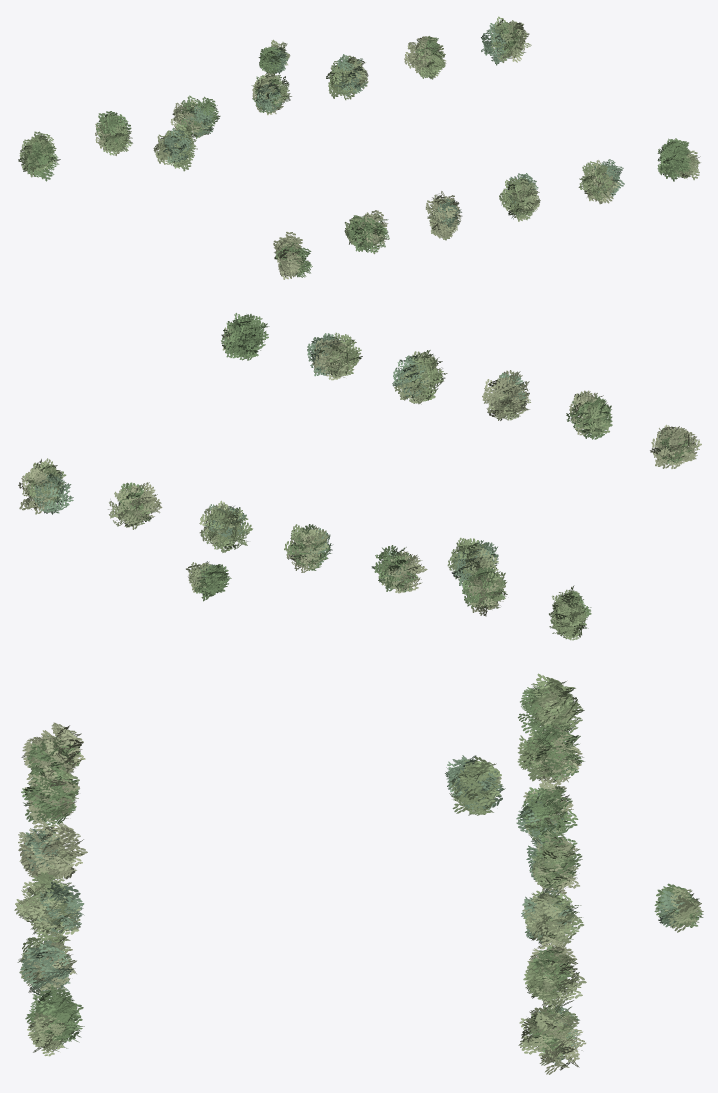
File: campus-tree-1_-1-middle.glb
3 renders of one model, top to bottom at view 1: azimuth 30°, elevation 25°; view 2: azimuth 150°, elevation 25°; view 3: azimuth 270°, elevation 25°, orthographic. The views are drawn at different scales.
Visible parts, largest first — view 1: Campus leaf canopy; view 2: Campus leaf canopy; view 3: Campus leaf canopy.
Boxes of the visible parts, <box> form: Campus leaf canopy: <box>18,16,700,279</box>; Campus leaf canopy: <box>18,313,701,640</box>; Campus leaf canopy: <box>14,673,703,1074</box>.
Size of the model in its own units: 73.26 by 7.99 by 59.85.
Materials: 1 (1 with a texture image).
